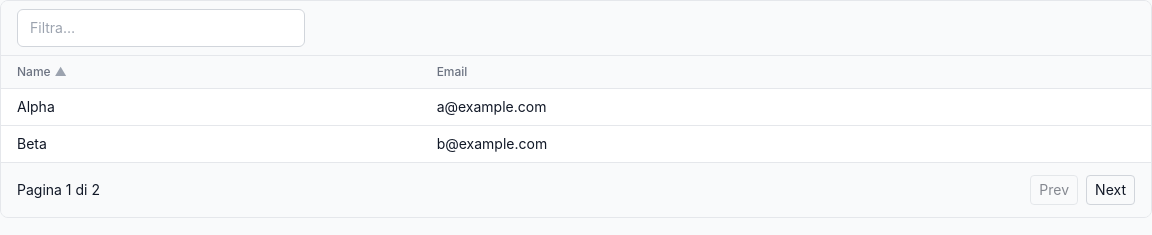
Test case: DataTable › paginates using Prev/Next
Click the button "Next".
click(1111, 190)  # box [1086,175,1135,205]
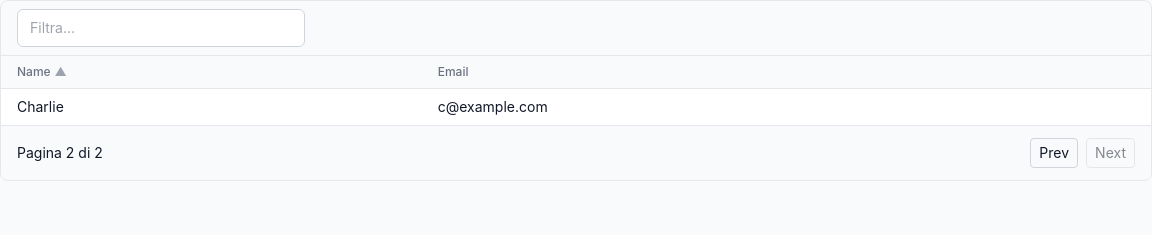
Expected: the cell "Charlie" is shown, [1,88,422,125]
Click the button "Prev".
click(1054, 153)  # box [1030,138,1078,168]
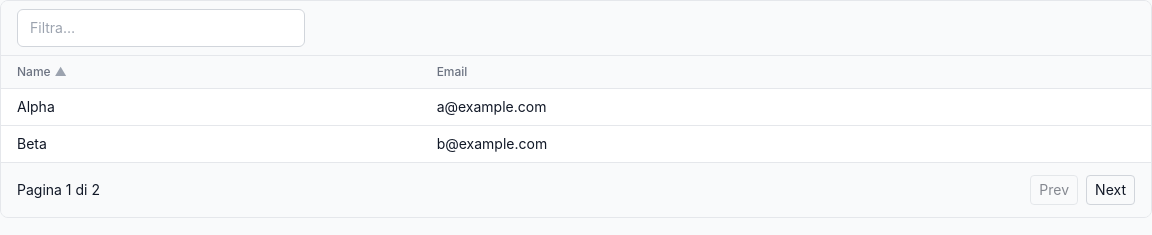
Expected: the cell "Alpha" is shown, [1,88,421,126]
